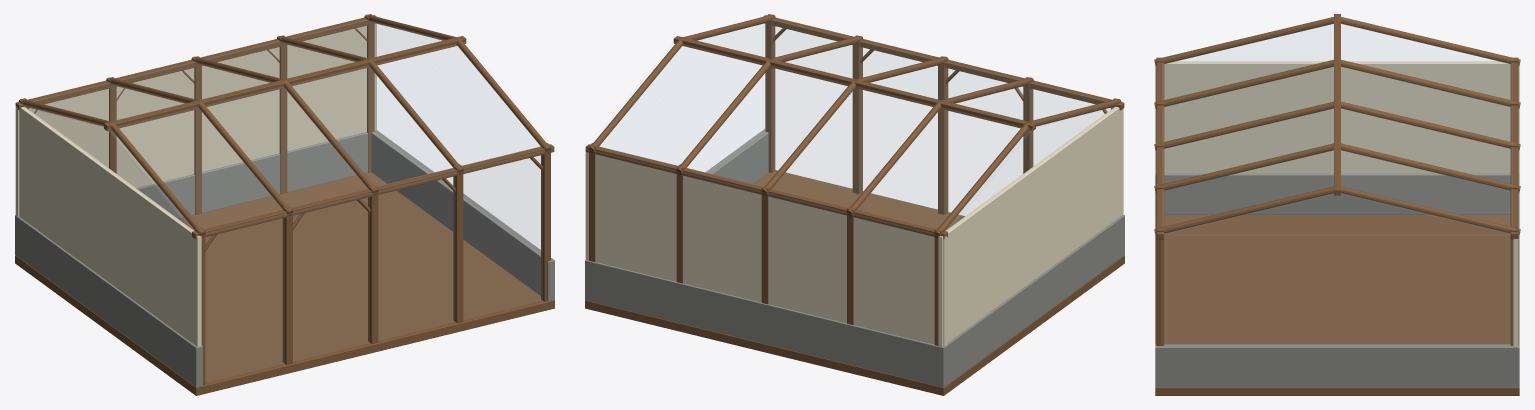
The model's file is fantasy-cartographers-map-printing-guild-roofed-cartog-b3f6120f__32226.glb.
3 renders of one model, left to right at view 1: azimuth 30°, elevation 25°; view 2: azimuth 150°, elevation 25°; view 3: azimuth 270°, elevation 25°, orthographic.
Parts seen in each view (by area): view 1: roofed-cartographers-guild; view 2: roofed-cartographers-guild; view 3: roofed-cartographers-guild.
Part boxes in pixels (<box>): roofed-cartographers-guild: <box>15,14,554,395</box>; roofed-cartographers-guild: <box>585,14,1124,395</box>; roofed-cartographers-guild: <box>1154,14,1520,395</box>.
Size of the model in its own units: 8 by 4.38 by 7.04.
